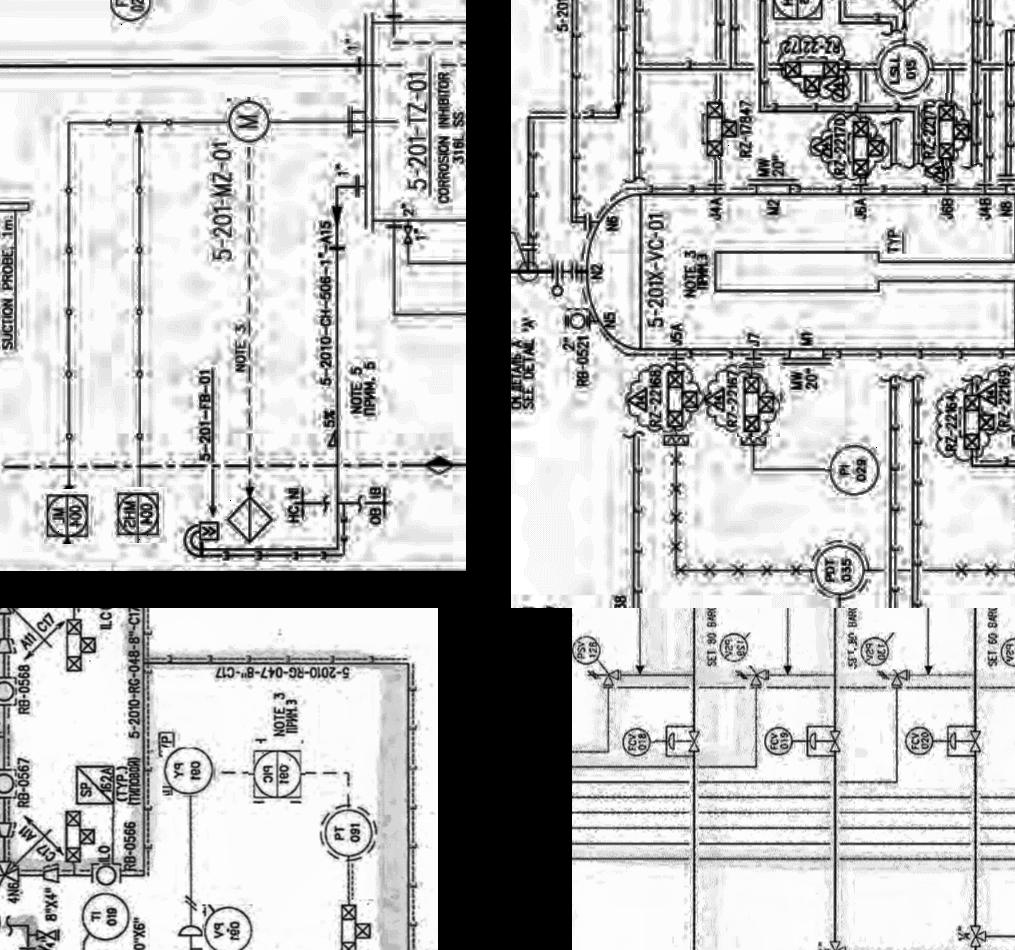2 WAY VALVE: (738, 365, 782, 436), (953, 387, 1000, 453), (937, 91, 978, 164), (776, 53, 845, 96), (845, 107, 886, 177), (664, 370, 704, 430), (701, 98, 739, 158), (61, 613, 95, 674), (62, 806, 97, 864), (336, 899, 375, 950)
3 WAY BALL VALVE: (965, 920, 989, 950), (826, 934, 854, 950)
ANGLE RELIEF VALVE: (730, 663, 778, 690), (868, 665, 920, 688), (578, 668, 632, 690), (0, 854, 24, 883)
BLIND SPADE OPEN: (548, 255, 569, 298)
CONCENTRIC REDUCER: (38, 864, 63, 884), (0, 815, 15, 843), (0, 633, 14, 655)
DCS ACCESSIBLE: (249, 743, 307, 803), (114, 486, 169, 542), (45, 486, 96, 542), (766, 0, 827, 26)
DIAPHRAGM ACTUATED VALVE: (947, 723, 996, 753), (804, 727, 856, 753), (666, 724, 708, 756)
DIAPHRAGM SEAL: (808, 131, 836, 163), (924, 152, 952, 180), (821, 72, 849, 97)
END CAP: (173, 918, 204, 944)
END FLANGED: (700, 382, 730, 416), (516, 234, 542, 256)
FIELD INSTRUMENT: (808, 534, 872, 605), (874, 34, 936, 101), (316, 798, 374, 866), (825, 440, 881, 496), (81, 891, 131, 942), (163, 747, 215, 795), (202, 902, 252, 950), (227, 96, 271, 146), (854, 631, 898, 668), (620, 720, 656, 760), (759, 722, 795, 760), (106, 0, 159, 25), (901, 723, 938, 757), (573, 632, 606, 668), (719, 632, 753, 664), (88, 862, 122, 886), (518, 256, 544, 284), (564, 306, 590, 330), (1000, 632, 1015, 668), (0, 676, 17, 703), (0, 768, 16, 796)
GATE VALVE: (28, 925, 60, 942), (400, 221, 417, 247)
HARDWIRED INTERLOCK PRIMARY.: (224, 489, 276, 543)
REVISION TRIANGLE: (625, 381, 652, 416), (976, 373, 1002, 406)
SPECIAL PIPING ITEM: (71, 757, 117, 807)
SPECTACLE BLIND OPEN: (992, 168, 1015, 188)
